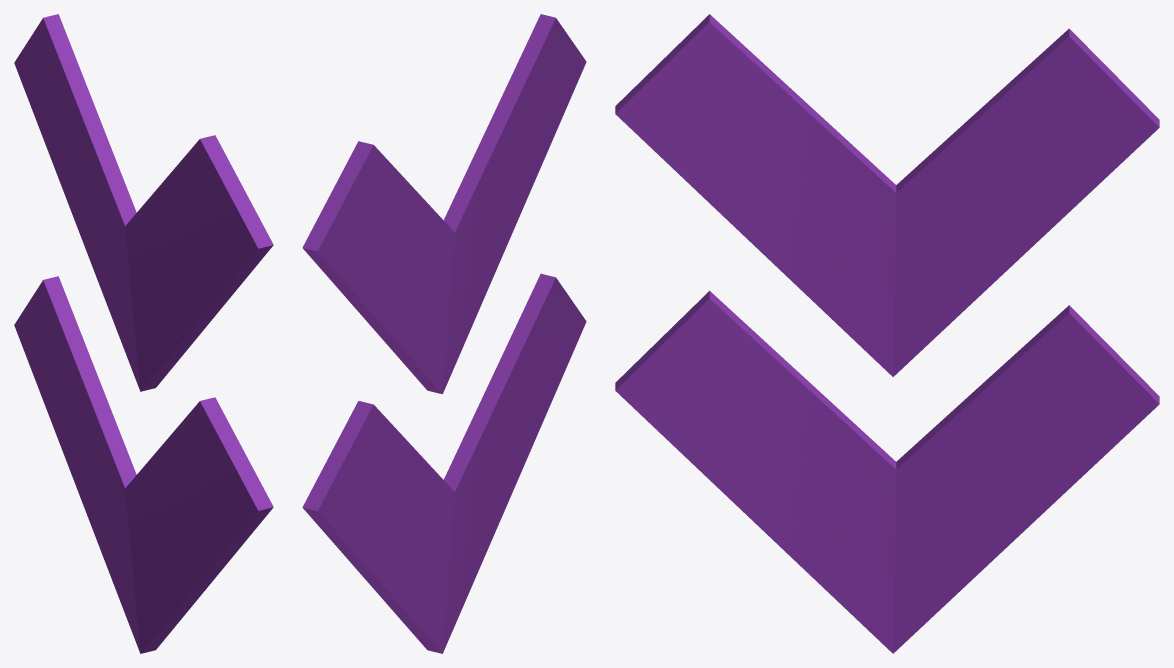
File: XRicon.fbx
The picture shows the model from 3 angles, left to right: view 1: azimuth 30°, elevation 25°; view 2: azimuth 150°, elevation 25°; view 3: azimuth 270°, elevation 25°; orthographic projection. The views are drawn at different scales.
Parts seen in each view (by area): view 1: V1; view 2: V1; view 3: V1.
Part boxes in pixels (x1=…): V1: x1=14, y1=14, x2=273, y2=653; V1: x1=302, y1=14, x2=586, y2=653; V1: x1=615, y1=14, x2=1159, y2=653.
Size of the model in its own units: 0.7301 by 9.51 by 7.6.
